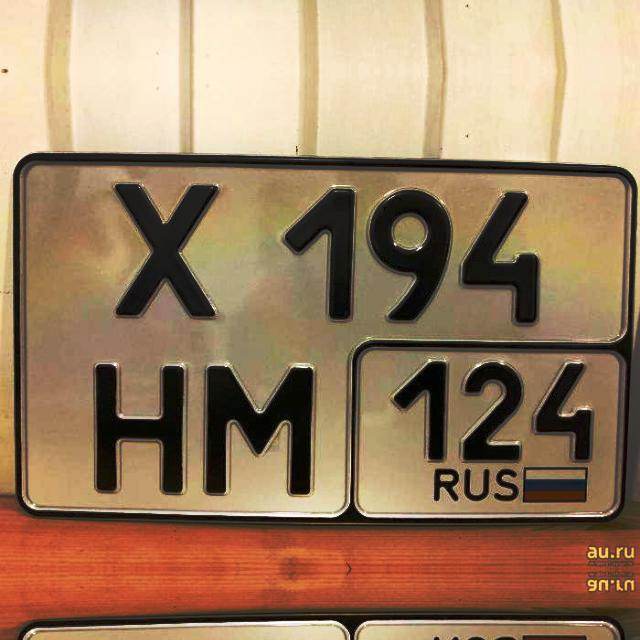citizen: (11, 142, 639, 526)
